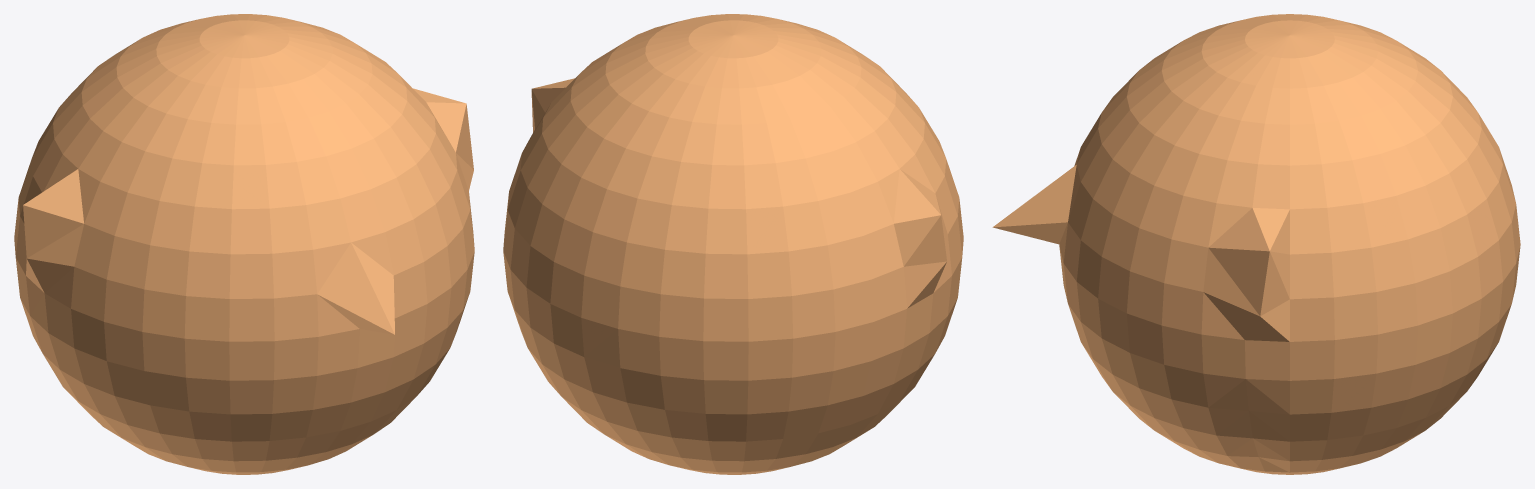
The model's file is enemy.obj.
3 renders of one model, left to right at view 1: azimuth 30°, elevation 25°; view 2: azimuth 150°, elevation 25°; view 3: azimuth 270°, elevation 25°, orthographic.
Visible parts, largest first — view 1: 球.001; view 2: 球.001; view 3: 球.001.
Part boxes in pixels (<box>): 球.001: <box>14,14,474,474</box>; 球.001: <box>503,14,963,474</box>; 球.001: <box>992,14,1520,474</box>.
Size of the model in its own units: 1.45 by 1.35 by 1.54.
1 material, 1 textured.
